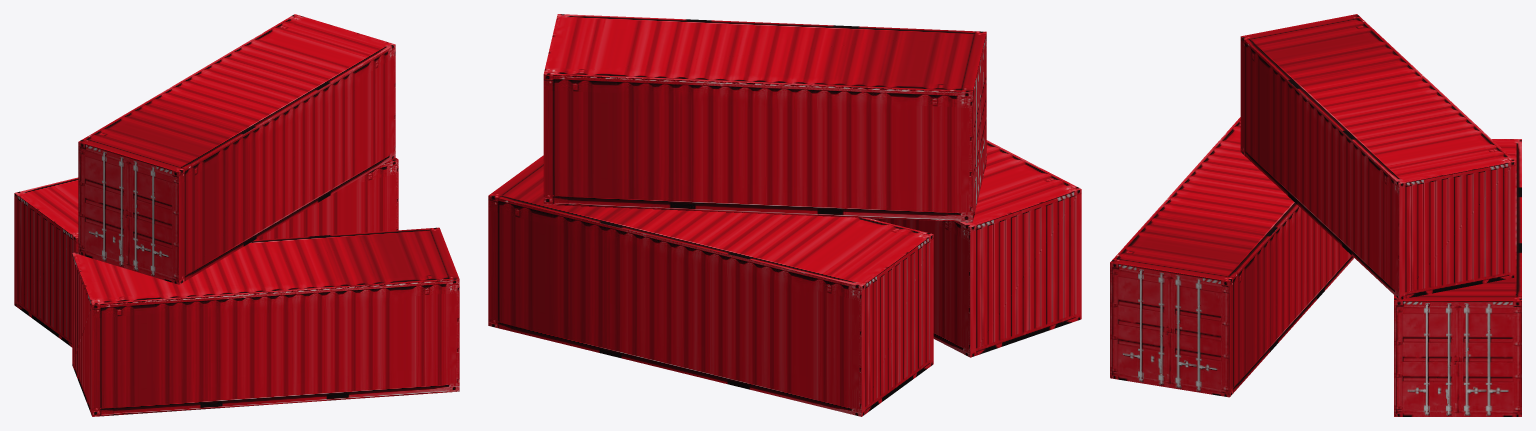
The model's file is moguls.glb.
3 views of the same model, side by side, from view 1: azimuth 30°, elevation 25°; view 2: azimuth 150°, elevation 25°; view 3: azimuth 270°, elevation 25° (orthographic). The views are drawn at different scales.
Parts seen in each view (by area): view 1: Object_2.002, Object_2.001, Object_2; view 2: Object_2.001, Object_2, Object_2.002; view 3: Object_2.001, Object_2.002, Object_2.
Boxes of the visible parts, box(x1,y1,x2,y2) form: Object_2.002: box(72, 227, 459, 416); Object_2.001: box(78, 14, 395, 284); Object_2: box(14, 157, 398, 347); Object_2.001: box(543, 14, 986, 222); Object_2: box(488, 155, 933, 416); Object_2.002: box(868, 140, 1081, 357); Object_2.001: box(1240, 14, 1515, 299); Object_2.002: box(1110, 117, 1353, 397); Object_2: box(1394, 139, 1521, 416).
Size of the model in its own units: 3.52 by 2.01 by 3.22.
Materials: 1 (1 with a texture image).
